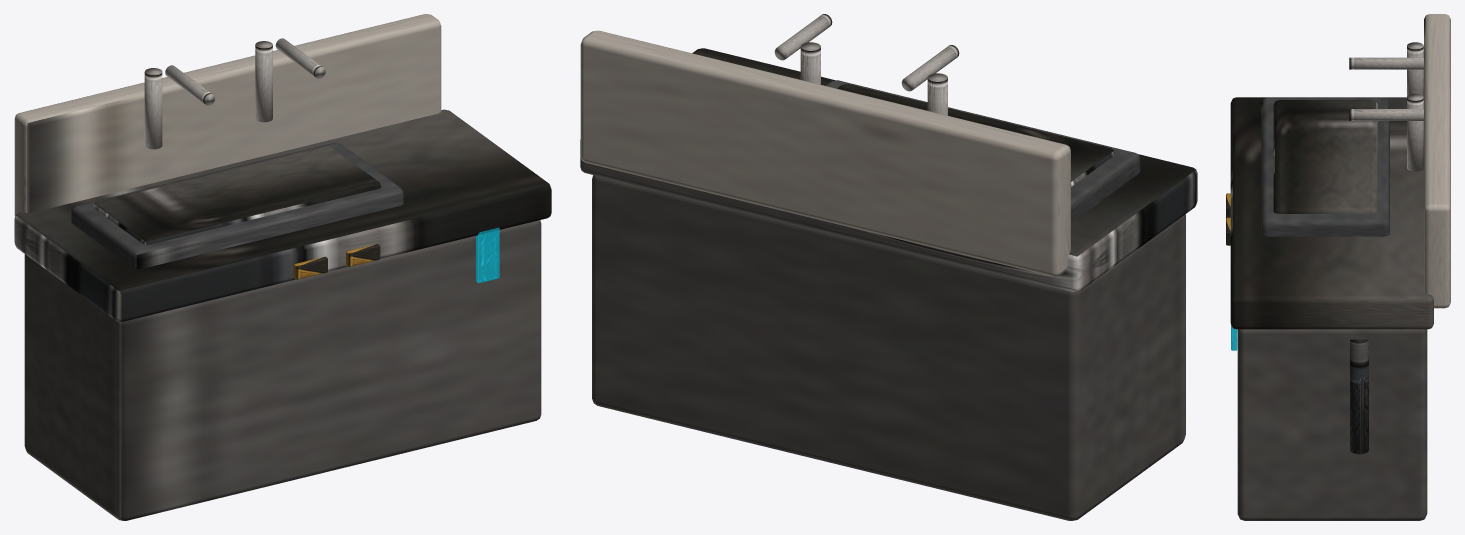
File: room_l1_img2_sterile_wash_basin.glb
3 renders of one model, left to right at view 1: azimuth 30°, elevation 25°; view 2: azimuth 150°, elevation 25°; view 3: azimuth 270°, elevation 25°, orthographic. The views are drawn at different scales.
Visible parts, largest first — view 1: wash_basin_base_cabinet, wash_basin_back_enamel_panel, wash_basin_counter_lip, wash_basin_inner_steel_bowl, wash_basin_recess_water_well, wash_basin_faucet_upright_-0.28, wash_basin_faucet_upright_0.08, wash_basin_cyan_sterile_panel, room_l1_img2_sterile_wash_basin, wash_basin_faucet_spout_0.08, wash_basin_faucet_spout_-0.28; view 2: wash_basin_base_cabinet, wash_basin_back_enamel_panel, wash_basin_counter_lip, wash_basin_recess_water_well, wash_basin_inner_steel_bowl, wash_basin_faucet_spout_-0.28, wash_basin_faucet_spout_0.08, wash_basin_faucet_upright_-0.28, wash_basin_faucet_upright_0.08; view 3: wash_basin_base_cabinet, wash_basin_counter_lip, wash_basin_inner_steel_bowl, wash_basin_back_enamel_panel, wash_basin_recess_water_well, wash_basin_side_hose, wash_basin_faucet_upright_0.08, wash_basin_faucet_spout_-0.28, wash_basin_faucet_spout_0.08, wash_basin_faucet_upright_-0.28.
Part boxes in pixels (bbox=[...]): wash_basin_base_cabinet: bbox=[24, 220, 541, 520]; wash_basin_back_enamel_panel: bbox=[14, 14, 441, 216]; wash_basin_counter_lip: bbox=[14, 109, 551, 321]; wash_basin_inner_steel_bowl: bbox=[93, 146, 381, 244]; wash_basin_recess_water_well: bbox=[71, 142, 403, 269]; wash_basin_faucet_upright_-0.28: bbox=[144, 68, 162, 149]; wash_basin_faucet_upright_0.08: bbox=[255, 41, 272, 122]; wash_basin_cyan_sterile_panel: bbox=[476, 227, 499, 283]; room_l1_img2_sterile_wash_basin: bbox=[294, 244, 380, 279]; wash_basin_faucet_spout_0.08: bbox=[275, 38, 325, 78]; wash_basin_faucet_spout_-0.28: bbox=[165, 65, 214, 105]; wash_basin_base_cabinet: bbox=[592, 175, 1185, 520]; wash_basin_back_enamel_panel: bbox=[580, 30, 1070, 276]; wash_basin_counter_lip: bbox=[580, 48, 1197, 292]; wash_basin_recess_water_well: bbox=[825, 80, 1140, 222]; wash_basin_inner_steel_bowl: bbox=[837, 84, 1115, 186]; wash_basin_faucet_spout_-0.28: bbox=[901, 45, 959, 91]; wash_basin_faucet_spout_0.08: bbox=[774, 14, 832, 60]; wash_basin_faucet_upright_-0.28: bbox=[927, 73, 947, 115]; wash_basin_faucet_upright_0.08: bbox=[800, 42, 820, 84]; wash_basin_base_cabinet: bbox=[1237, 329, 1427, 520]; wash_basin_counter_lip: bbox=[1230, 97, 1433, 329]; wash_basin_inner_steel_bowl: bbox=[1273, 100, 1377, 213]; wash_basin_back_enamel_panel: bbox=[1424, 14, 1450, 308]; wash_basin_recess_water_well: bbox=[1261, 97, 1389, 236]; wash_basin_side_hose: bbox=[1350, 339, 1368, 454]; wash_basin_faucet_upright_0.08: bbox=[1407, 93, 1423, 171]; wash_basin_faucet_spout_-0.28: bbox=[1349, 57, 1423, 69]; wash_basin_faucet_spout_0.08: bbox=[1349, 109, 1423, 120]; wash_basin_faucet_upright_-0.28: bbox=[1407, 42, 1423, 96].
Bounding box in the file's own units: 1.43 × 1.11 × 0.664.
Materials: 9 (9 with a texture image).
